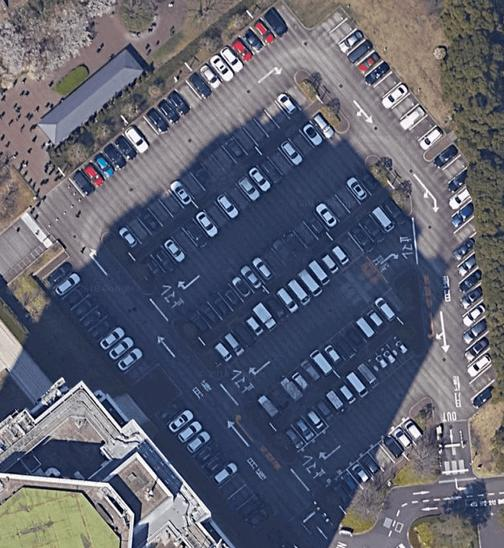parkingspot: (66, 0, 302, 201), (135, 108, 342, 287), (111, 79, 316, 257), (181, 163, 385, 341), (208, 195, 411, 371), (251, 284, 414, 425), (319, 5, 448, 153), (429, 142, 497, 416), (156, 394, 280, 533), (279, 333, 417, 457), (42, 258, 157, 387), (322, 414, 430, 516)
